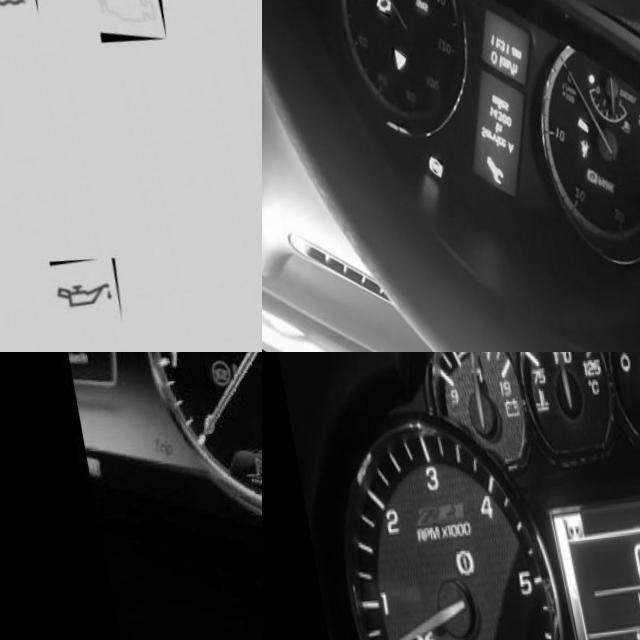Engine cooling system: (223, 461, 257, 496)
